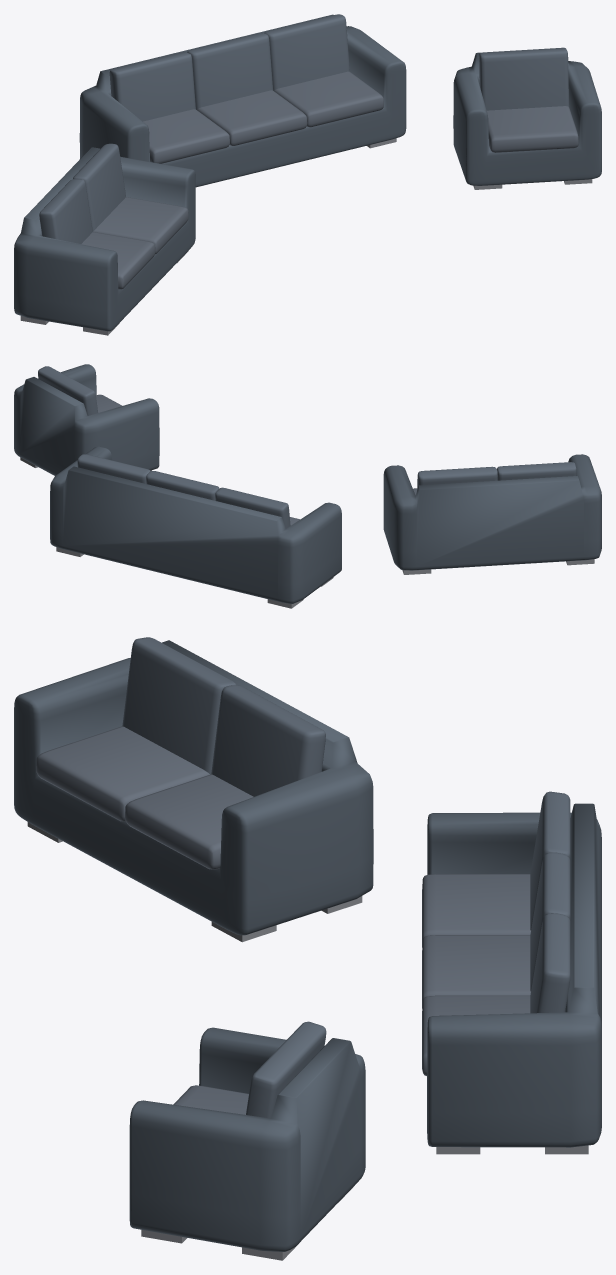
3 views of the same model, one above another, from view 1: azimuth 30°, elevation 25°; view 2: azimuth 150°, elevation 25°; view 3: azimuth 270°, elevation 25° (orthographic). The views are drawn at different scales.
Parts seen in each view (by area): view 1: sofa, sofa.001, sofa.002; view 2: sofa, sofa.001, sofa.002; view 3: sofa.001, sofa, sofa.002.
Boxes of the visible parts, left/top/right/bottom form: sofa: left=79, top=14, right=406, bottom=187; sofa.001: left=14, top=143, right=195, bottom=335; sofa.002: left=453, top=47, right=601, bottom=189; sofa: left=50, top=446, right=341, bottom=608; sofa.001: left=383, top=454, right=601, bottom=574; sofa.002: left=14, top=364, right=159, bottom=475; sofa.001: left=14, top=637, right=373, bottom=942; sofa: left=422, top=791, right=601, bottom=1154; sofa.002: left=129, top=1021, right=365, bottom=1260.
Bounding box in the file's own units: 14.37 × 2.34 × 7.38.
